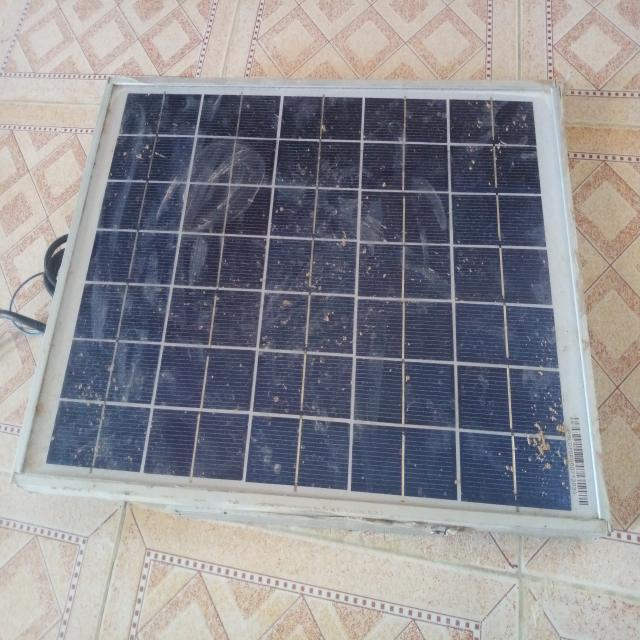faulty: (17, 74, 611, 531)
